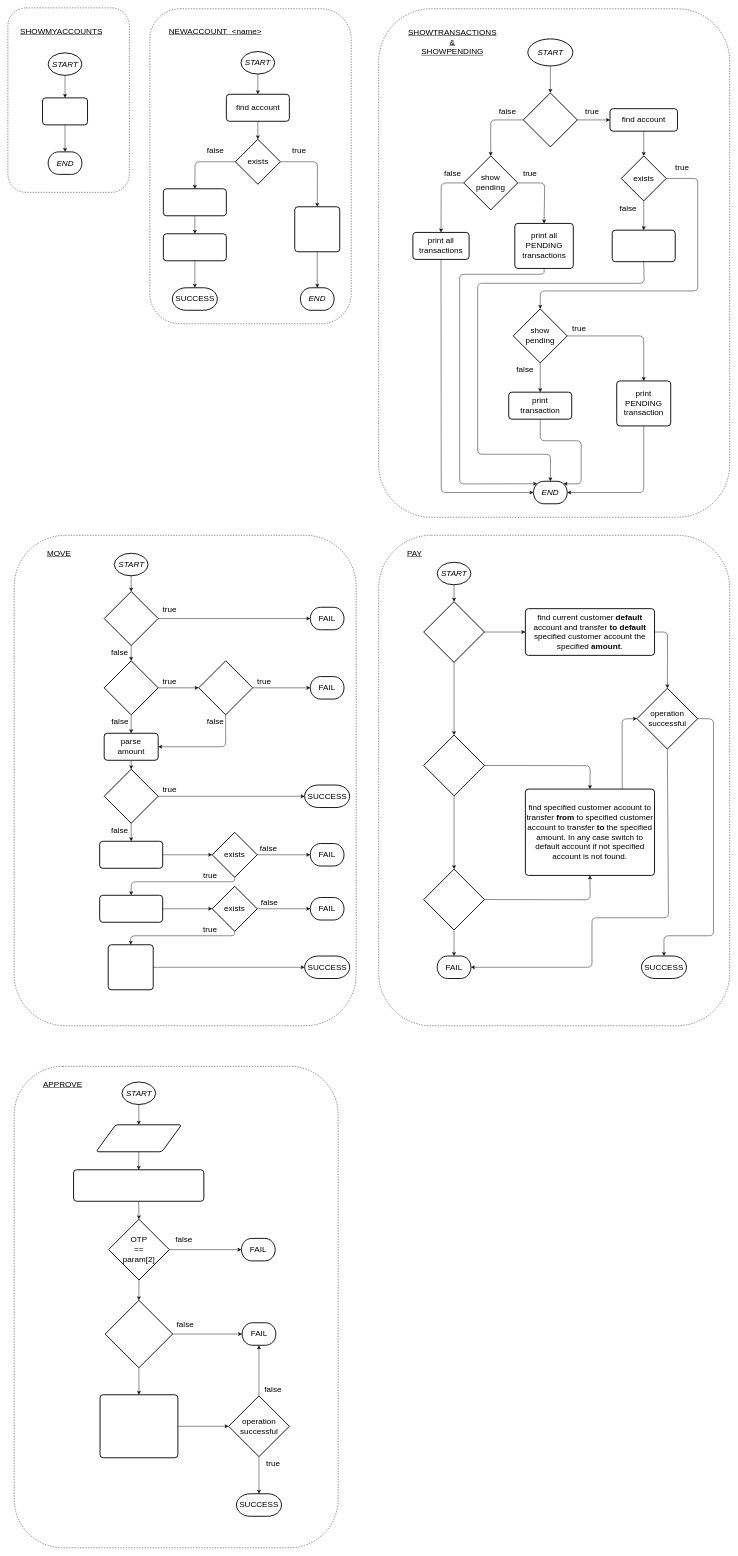
Image size: 738x1556. Some labels were removed from this diagram. Here are the shapes that lost their labels. From the top down, the centre of each, then its label:
At [65,111]: "print accounts".
At [550,119]: "arg.len == 2".
At [195,202]: "add acount".
At [195,247]: "update customer".
At [317,229]: "print account doesn't exist".
At [643,246]: "print no account found".
At [131,618]: "is customer null".
At [454,632]: "param length == 3".
At [131,687]: "is command null".
At [225,687]: "command length != 4".
At [454,765]: "param length == 4".
At [131,796]: "FROM == TO".
At [131,854]: "find FROM account".
At [131,908]: "find TO account".
At [454,899]: "param length == 5".
At [130,967]: "perform move".
At [138,1138]: "array of params".
At [138,1185]: "find transaction by param[1]".
At [138,1334]: "is transaction for customer".
At [138,1426]: "perform transfer".
